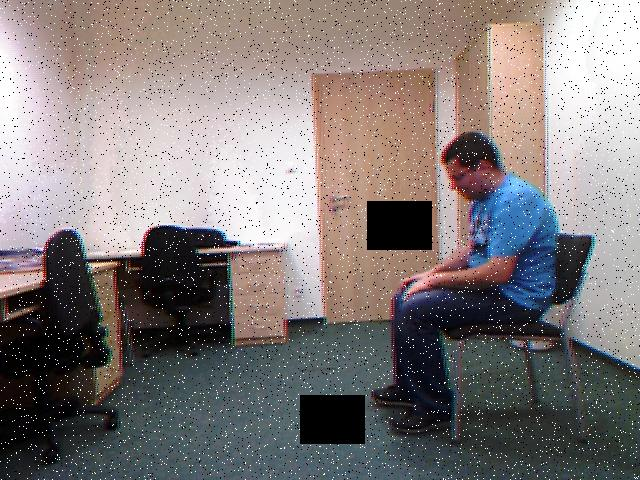sitting: (371, 131, 555, 434)
